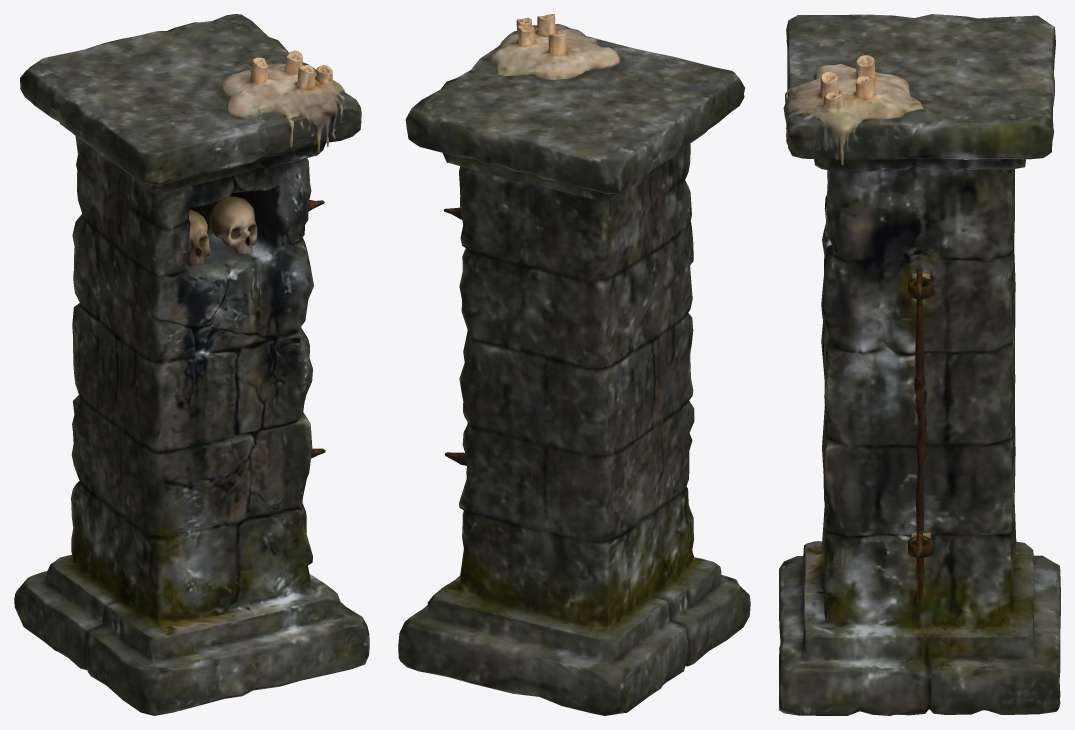
The model's file is crypt_gate.glb.
3 renders of one model, left to right at view 1: azimuth 30°, elevation 25°; view 2: azimuth 150°, elevation 25°; view 3: azimuth 270°, elevation 25°, orthographic. The views are drawn at different scales.
Parts seen in each view (by area): view 1: crypt_gate_p2; view 2: crypt_gate_p2; view 3: crypt_gate_p2.
Boxes of the visible parts, <box> form: crypt_gate_p2: <box>14,14,369,715</box>; crypt_gate_p2: <box>398,14,750,715</box>; crypt_gate_p2: <box>779,14,1060,715</box>.
Size of the model in its own units: 1.2 by 2.79 by 1.14.
1 material, 1 textured.
